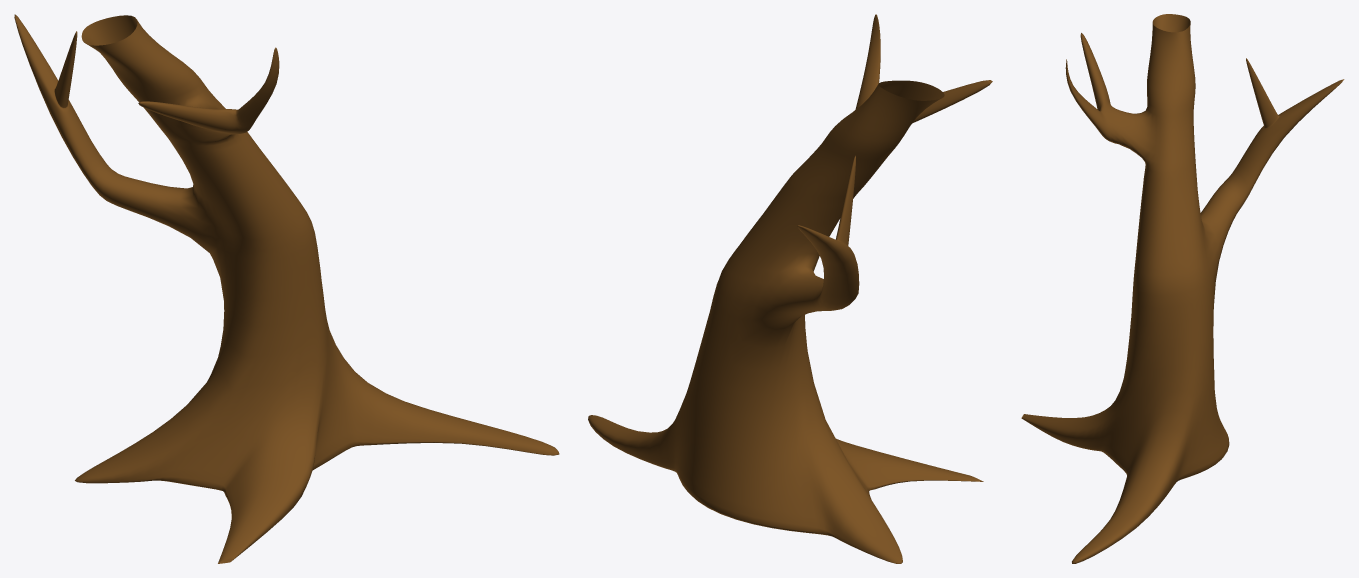
File: tree_5.fbx
The picture shows the model from 3 angles, left to right: view 1: azimuth 30°, elevation 25°; view 2: azimuth 150°, elevation 25°; view 3: azimuth 270°, elevation 25°; orthographic projection. The views are drawn at different scales.
Visible parts, largest first — view 1: pCylinder8; view 2: pCylinder8; view 3: pCylinder8.
Boxes of the visible parts, x1=… form: pCylinder8: x1=14, y1=14, x2=559, y2=563; pCylinder8: x1=588, y1=14, x2=992, y2=563; pCylinder8: x1=1021, y1=14, x2=1344, y2=563.
Bounding box in the file's own units: 454 × 499 × 373.
